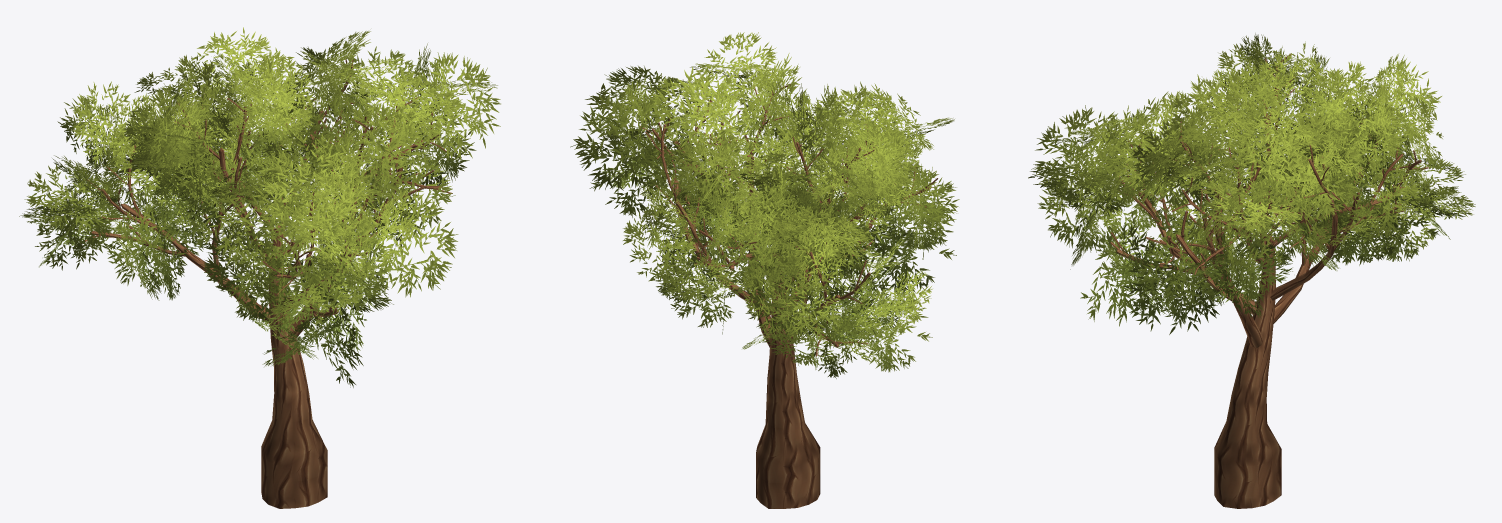
File: ct_lance_1.gltf
3 views of the same model, side by side, from view 1: azimuth 30°, elevation 25°; view 2: azimuth 150°, elevation 25°; view 3: azimuth 270°, elevation 25° (orthographic). The views are drawn at different scales.
Parts seen in each view (by area): view 1: ct_lance_1_leaves_LOD0, ct_lance_1_trunk_LOD0; view 2: ct_lance_1_leaves_LOD0, ct_lance_1_trunk_LOD0; view 3: ct_lance_1_leaves_LOD0, ct_lance_1_trunk_LOD0.
Boxes of the visible parts, bbox=[...] form: ct_lance_1_leaves_LOD0: bbox=[19, 27, 500, 387]; ct_lance_1_trunk_LOD0: bbox=[80, 59, 452, 508]; ct_lance_1_leaves_LOD0: bbox=[570, 32, 959, 378]; ct_lance_1_trunk_LOD0: bbox=[640, 84, 938, 508]; ct_lance_1_leaves_LOD0: bbox=[1028, 33, 1475, 334]; ct_lance_1_trunk_LOD0: bbox=[1107, 54, 1428, 508].
Size of what is drawn, in the model's own units: 9.57 by 9.37 by 8.88.
Materials: 2 (2 with a texture image).
